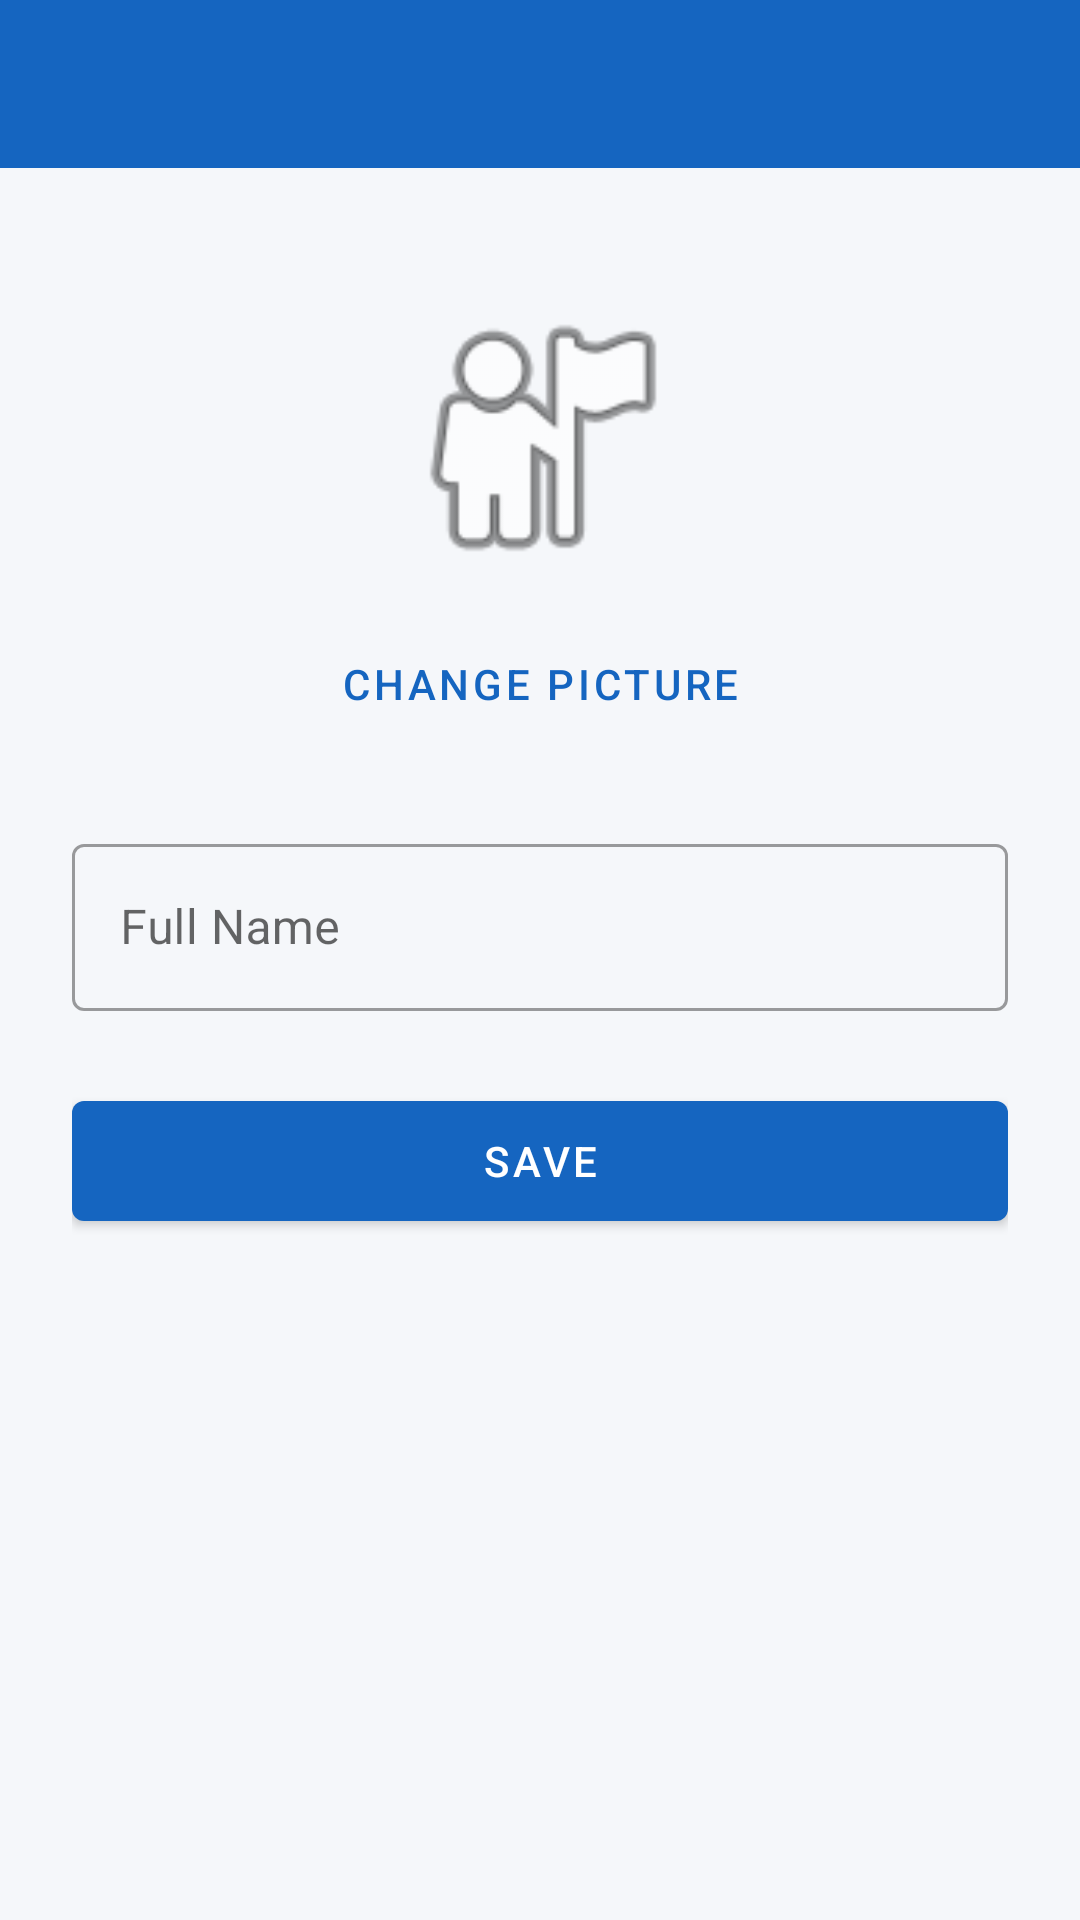

Icon bounding boxes for this 1080 × 1920 phone screenshot, format box=[x1, y1, x2, y2]:
Profile picture: box=[430, 326, 656, 550]
